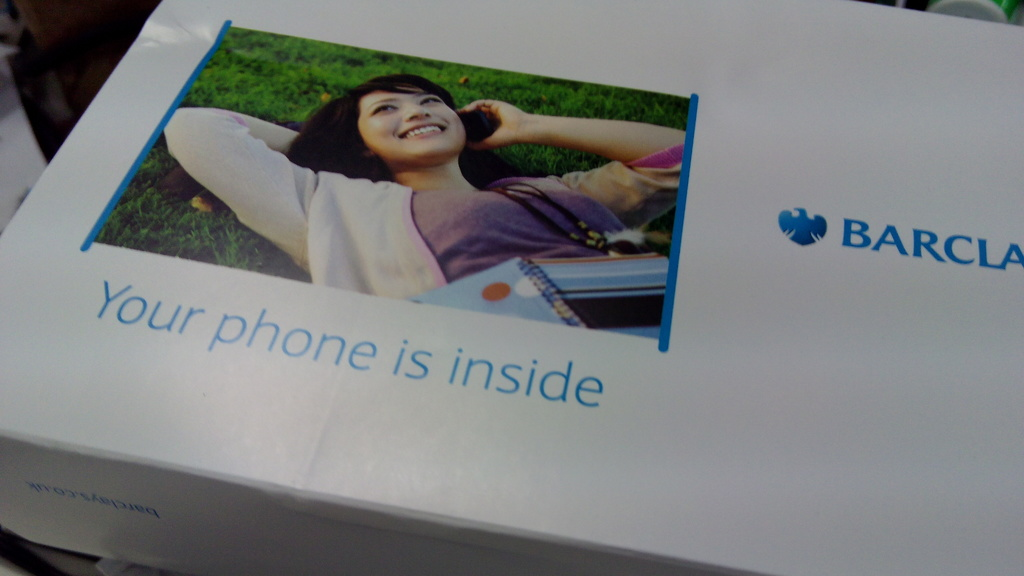Human_hand: (467, 81, 560, 148)
